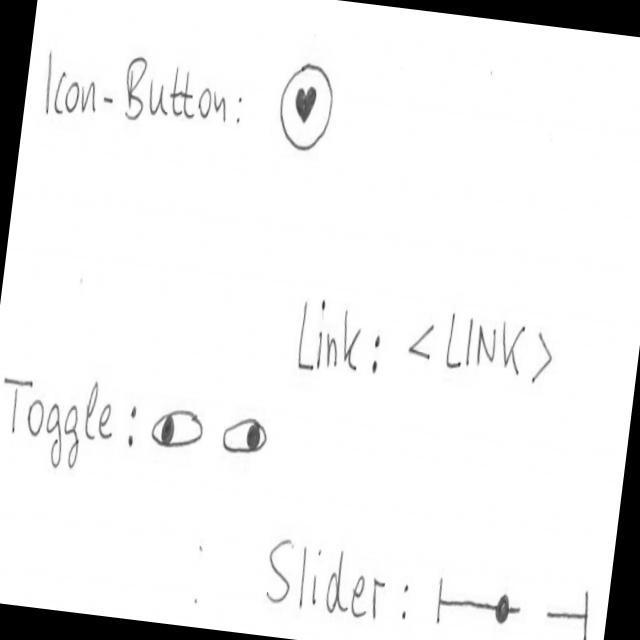icon-button: (274, 56, 340, 159)
link: (403, 300, 563, 396)
slider: (430, 569, 598, 640)
toggle: (148, 400, 209, 457), (219, 409, 272, 459)
